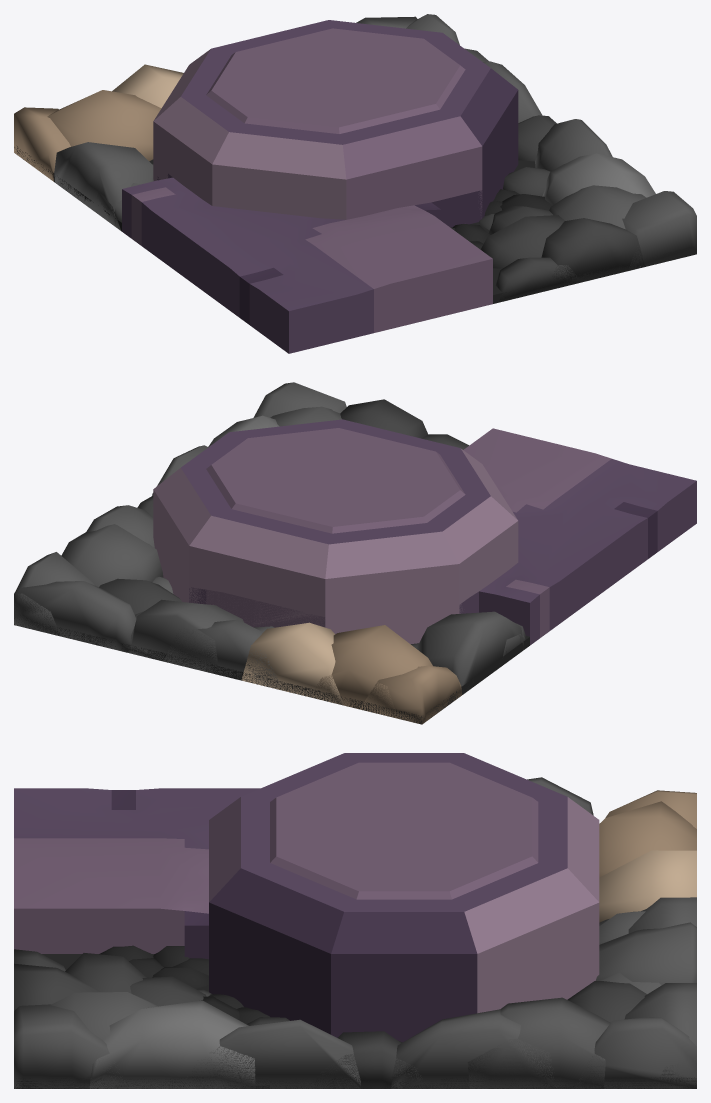
File: purple_pad_tr.glb
3 views of the same model, one above another, from view 1: azimuth 30°, elevation 25°; view 2: azimuth 150°, elevation 25°; view 3: azimuth 270°, elevation 25° (orthographic). The views are drawn at different scales.
Parts seen in each view (by area): view 1: purple_pad_tr_floor, purple_pad_tr_pad, purple_pad_tr_pad_panel, purple_pad_tr_rocks_12, purple_pad_tr_rocks_10, purple_pad_tr_rocks_29, purple_pad_tr_rocks_23, purple_pad_tr_rocks_0, purple_pad_tr_rocks_7, purple_pad_tr_rocks_27, purple_pad_tr_rocks_6, purple_pad_tr_rocks_22 (+9 smaller); view 2: purple_pad_tr_pad, purple_pad_tr_floor, purple_pad_tr_pad_panel, purple_pad_tr_rocks_3, purple_pad_tr_rocks_17, purple_pad_tr_rocks_12, purple_pad_tr_rocks_15, purple_pad_tr_rocks_10, purple_pad_tr_rocks_1, purple_pad_tr_rocks_7, purple_pad_tr_rocks_16, purple_pad_tr_rocks_base (+7 smaller); view 3: purple_pad_tr_pad, purple_pad_tr_floor, purple_pad_tr_pad_panel, purple_pad_tr_rocks_0, purple_pad_tr_rocks_1, purple_pad_tr_rocks_8, purple_pad_tr_rocks_2, purple_pad_tr_rocks_23, purple_pad_tr_rocks_4, purple_pad_tr_rocks_15, purple_pad_tr_rocks_3, purple_pad_tr_rocks_12 (+15 smaller).
Part boxes in pixels (box(x1,y1,x2,y2)): purple_pad_tr_floor: box(122, 173, 492, 353); purple_pad_tr_pad: box(153, 20, 518, 219); purple_pad_tr_pad_panel: box(206, 28, 465, 133); purple_pad_tr_rocks_12: box(47, 90, 161, 161); purple_pad_tr_rocks_10: box(54, 142, 153, 226); purple_pad_tr_rocks_29: box(541, 218, 645, 289); purple_pad_tr_rocks_23: box(622, 191, 696, 270); purple_pad_tr_rocks_0: box(542, 153, 655, 205); purple_pad_tr_rocks_7: box(14, 107, 70, 181); purple_pad_tr_rocks_27: box(480, 215, 564, 268); purple_pad_tr_rocks_6: box(549, 185, 646, 268); purple_pad_tr_rocks_22: box(495, 257, 581, 302); purple_pad_tr_pad: box(153, 419, 518, 644); purple_pad_tr_floor: box(189, 428, 696, 645); purple_pad_tr_pad_panel: box(206, 428, 465, 533); purple_pad_tr_rocks_3: box(241, 622, 344, 705); purple_pad_tr_rocks_17: box(14, 581, 136, 652); purple_pad_tr_rocks_12: box(313, 625, 432, 718); purple_pad_tr_rocks_15: box(131, 599, 243, 674); purple_pad_tr_rocks_10: box(416, 611, 523, 692); purple_pad_tr_rocks_1: box(61, 524, 163, 587); purple_pad_tr_rocks_7: box(360, 665, 462, 724); purple_pad_tr_rocks_16: box(164, 619, 282, 689); purple_pad_tr_rocks_base: box(14, 618, 529, 724); purple_pad_tr_pad: box(209, 753, 599, 1041); purple_pad_tr_floor: box(14, 788, 477, 1042); purple_pad_tr_pad_panel: box(270, 762, 538, 899); purple_pad_tr_rocks_0: box(89, 1000, 255, 1088); purple_pad_tr_rocks_1: box(467, 997, 610, 1088); purple_pad_tr_rocks_8: box(391, 1009, 554, 1088); purple_pad_tr_rocks_2: box(184, 1019, 360, 1088); purple_pad_tr_rocks_23: box(14, 1004, 128, 1088); purple_pad_tr_rocks_4: box(574, 1017, 696, 1088); purple_pad_tr_rocks_15: box(595, 922, 696, 984); purple_pad_tr_rocks_3: box(599, 850, 696, 922); purple_pad_tr_rocks_12: box(599, 801, 696, 877).
Bounding box in the file's own units: 24 × 6.25 × 28.
